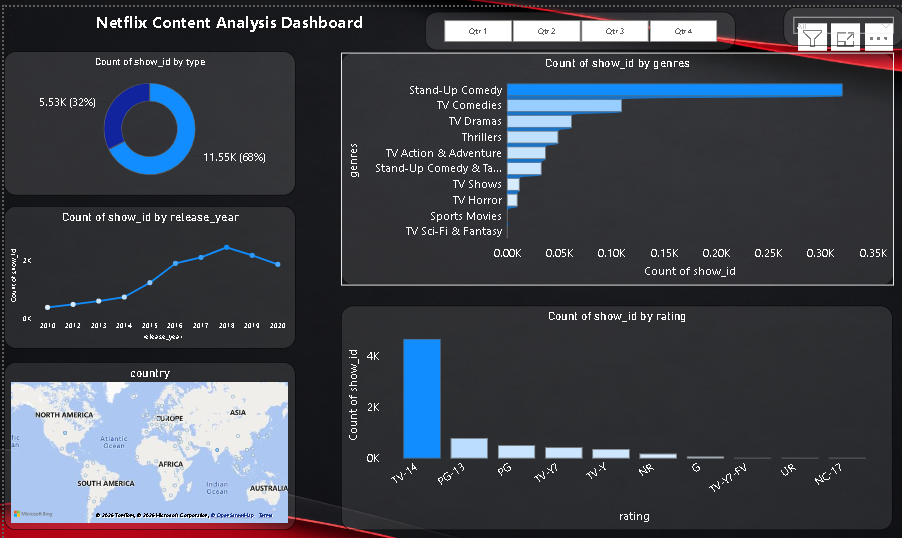

This screenshot's page, from the dashboard's own definition file:
{"tool":"powerbi","page":{"name":"Page 1","canvas":[1500,900],"ordinal":0},"visuals":[{"type":"textbox","box":[0,0,745,75],"z":0},{"type":"donutChart","fields":{"Category":["NetFlix.type"],"Y":["CountNonNull(NetFlix.show_id)"]},"box":[0,74,486,240],"z":1000},{"type":"barChart","fields":{"Y":["CountNonNull(NetFlix.show_id)"],"Category":["NetFlix.genres"]},"box":[562,76,922,388],"z":2000},{"type":"lineChart","fields":{"Category":["NetFlix.release_year"],"Y":["CountNonNull(NetFlix.show_id)"]},"box":[0,332,486,238],"z":3000},{"type":"map","fields":{"Category":["NetFlix.country"]},"box":[0,592,486,280],"z":4000},{"type":"columnChart","fields":{"Category":["NetFlix.rating"],"Y":["CountNonNull(NetFlix.show_id)"]},"box":[562,498,920,374],"z":5000},{"type":"slicer","fields":{"Values":["NetFlix.date_added.Variation.Date Hierarchy.Quarter"]},"box":[702,8,518,64],"z":6000},{"type":"slicer","fields":{"Values":["NetFlix.country"]},"box":[1300,0,200,65],"z":7000}]}

Visuals, with their boxes in screenshot pixels (x1, y1, x2, y2), scaled from the page's 1500x900 canvas onto the 902x538 screenshot:
textbox: box=[0, 0, 448, 45]
donutChart - NetFlix.type x CountNonNull(NetFlix.show_id): box=[0, 44, 292, 188]
barChart - CountNonNull(NetFlix.show_id) x NetFlix.genres: box=[338, 45, 892, 277]
lineChart - NetFlix.release_year x CountNonNull(NetFlix.show_id): box=[0, 198, 292, 341]
map - NetFlix.country: box=[0, 354, 292, 521]
columnChart - NetFlix.rating x CountNonNull(NetFlix.show_id): box=[338, 298, 891, 521]
slicer - NetFlix.date_added.Variation.Date Hierarchy.Quarter: box=[422, 5, 734, 43]
slicer - NetFlix.country: box=[782, 0, 901, 39]
